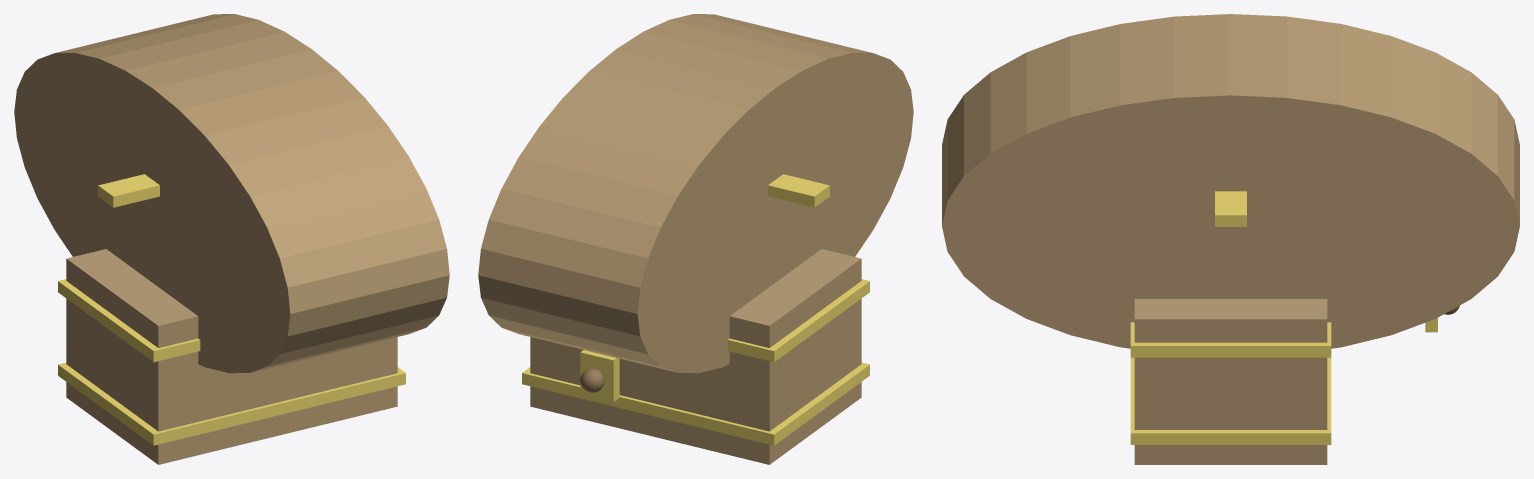
File: evolution_chest.glb
3 views of the same model, side by side, from view 1: azimuth 30°, elevation 25°; view 2: azimuth 150°, elevation 25°; view 3: azimuth 270°, elevation 25° (orthographic). The views are drawn at different scales.
Parts seen in each view (by area): view 1: Lid, Body, Band_-0.03, Band_0.03, TopBand; view 2: Lid, Body, Band_-0.03, Band_0.03, TopBand, Lock, Keyhole; view 3: Lid, Body, Band_-0.03, Band_0.03, TopBand.
Boxes of the visible parts, x1=… form: Lid: x1=14, y1=14, x2=449, y2=373; Body: x1=66, y1=249, x2=397, y2=464; Band_-0.03: x1=58, y1=362, x2=405, y2=445; Band_0.03: x1=58, y1=279, x2=200, y2=362; TopBand: x1=98, y1=174, x2=159, y2=207; Lid: x1=478, y1=14, x2=913, y2=373; Body: x1=530, y1=249, x2=861, y2=464; Band_-0.03: x1=522, y1=362, x2=869, y2=445; Band_0.03: x1=727, y1=279, x2=869, y2=362; TopBand: x1=768, y1=174, x2=829, y2=207; Lock: x1=580, y1=350, x2=619, y2=401; Keyhole: x1=580, y1=368, x2=604, y2=392; Lid: x1=942, y1=14, x2=1519, y2=348; Body: x1=1134, y1=299, x2=1327, y2=464; Band_-0.03: x1=1130, y1=357, x2=1331, y2=444; Band_0.03: x1=1130, y1=322, x2=1331, y2=357; TopBand: x1=1215, y1=191, x2=1246, y2=226.
Size of the model in its own units: 0.19 by 0.24 by 0.36.
